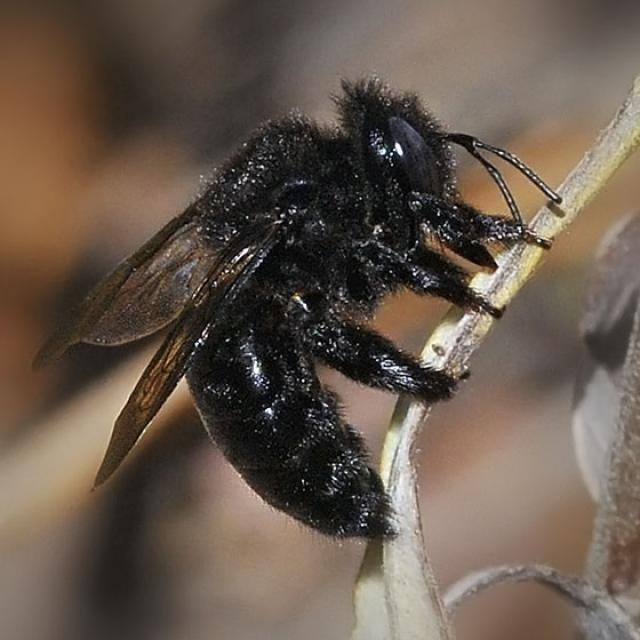Xylocopa: (24, 60, 575, 548)
